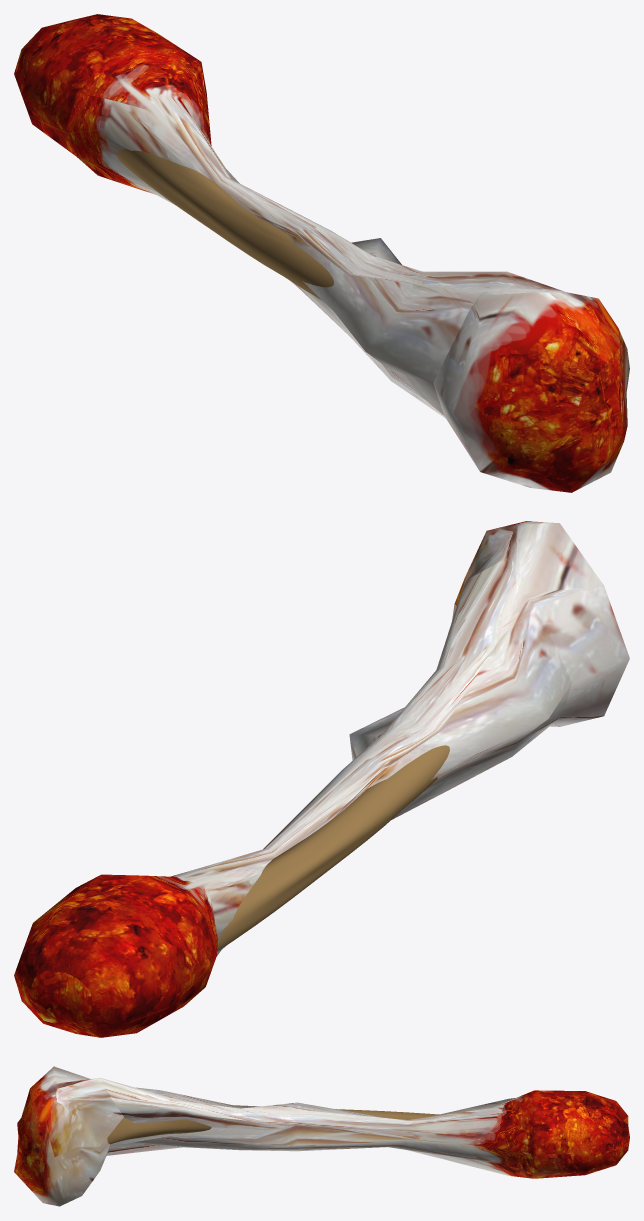
File: friedChicken_Red_eat02.FBX
3 views of the same model, one above another, from view 1: azimuth 30°, elevation 25°; view 2: azimuth 150°, elevation 25°; view 3: azimuth 270°, elevation 25° (orthographic). The views are drawn at different scales.
Visible parts, largest first — view 1: Chicken, bone; view 2: Chicken, bone; view 3: Chicken, bone.
Part boxes in pixels (x1=…): Chicken: x1=14, y1=14, x2=629, y2=492; bone: x1=116, y1=148, x2=333, y2=300; Chicken: x1=14, y1=521, x2=629, y2=1037; bone: x1=217, y1=745, x2=449, y2=951; Chicken: x1=14, y1=1066, x2=629, y2=1206; bone: x1=107, y1=1109, x2=438, y2=1144.
Bounding box in the file's own units: 6.92 × 7.4 × 34.28.
Materials: 2 (1 with a texture image).
